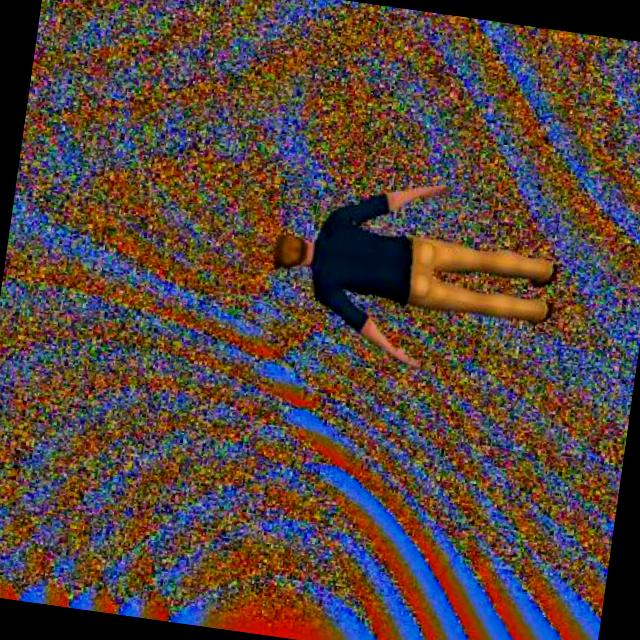Person: (258, 154, 572, 388)
